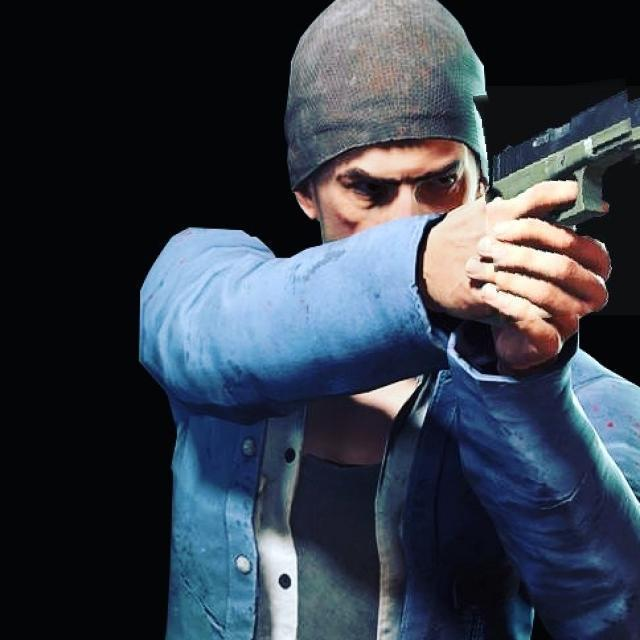Handgun: (479, 81, 640, 319)
